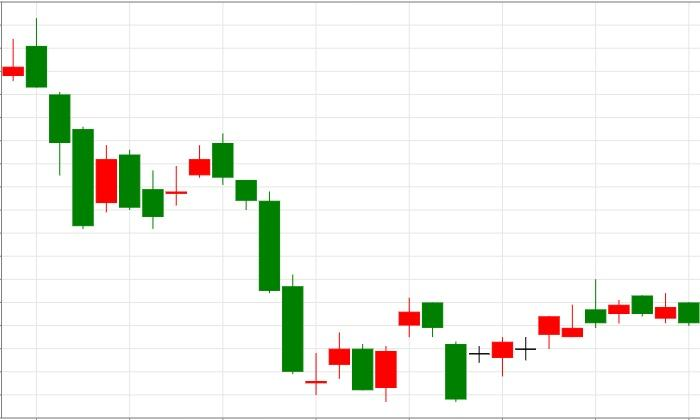morning_star_rise: (212, 134, 351, 395)
three_black_crows_fall: (142, 133, 304, 375)
